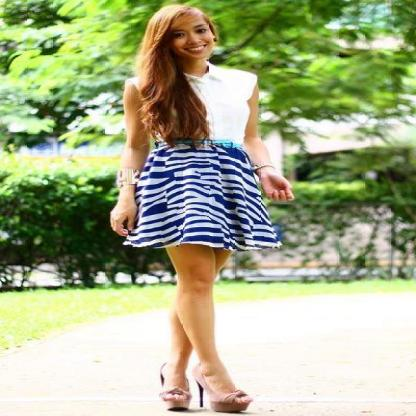shirt: (190, 61, 257, 141)
shoe: (159, 358, 250, 413)
skirt: (112, 128, 281, 251)
